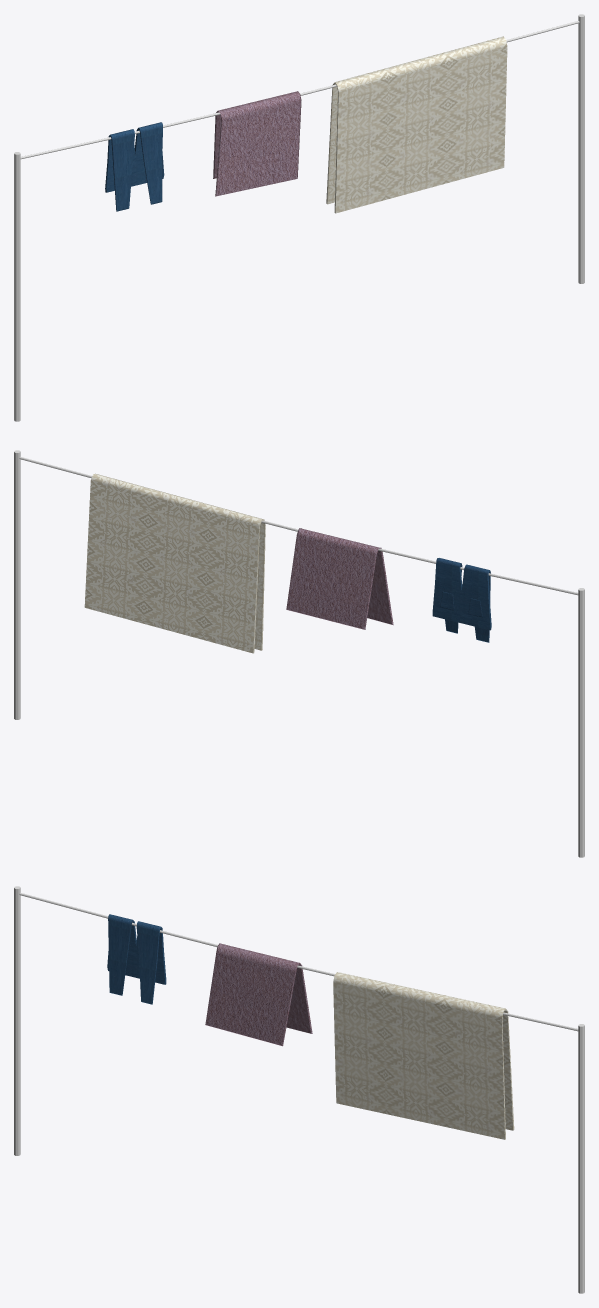
File: Hanged clothes.fbx
3 views of the same model, one above another, from view 1: azimuth 30°, elevation 25°; view 2: azimuth 150°, elevation 25°; view 3: azimuth 330°, elevation 25° (orthographic).
Parts seen in each view (by area): view 1: Hanging_clothes; view 2: Hanging_clothes; view 3: Hanging_clothes.
Part boxes in pixels (x1,y1,x2,y2): Hanging_clothes: (14, 14, 584, 421); Hanging_clothes: (14, 450, 584, 857); Hanging_clothes: (14, 886, 584, 1293).
Size of the model in its own units: 488 by 218 by 27.28.
Materials: 4 (3 with a texture image).
